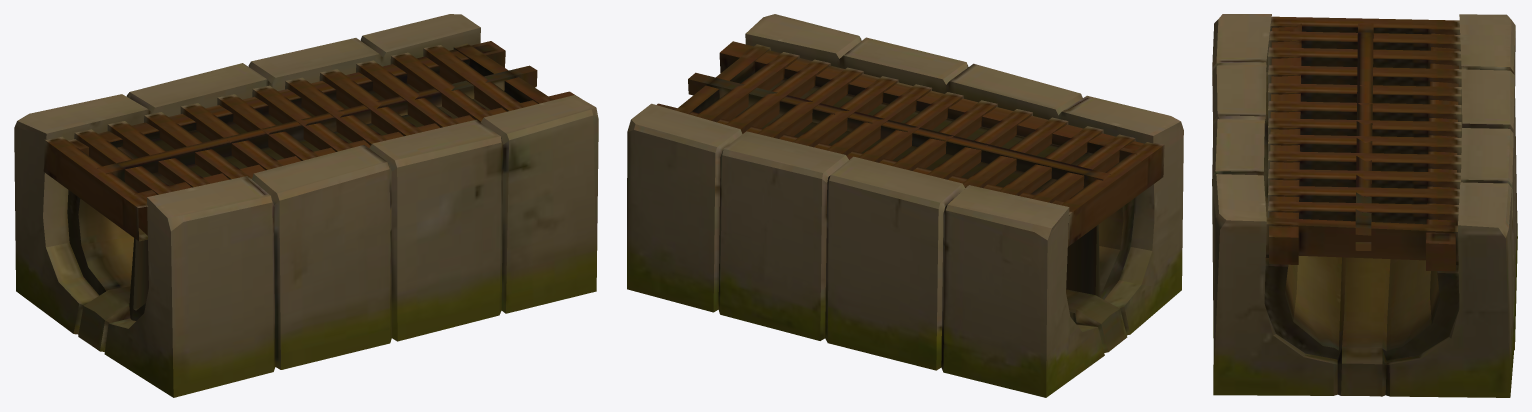
Rendered from sewer_drainage_channel.fbx.
3 views of the same model, side by side, from view 1: azimuth 30°, elevation 25°; view 2: azimuth 150°, elevation 25°; view 3: azimuth 270°, elevation 25° (orthographic). The views are drawn at different scales.
Visible parts, largest first — view 1: sewer_drainage_channel; view 2: sewer_drainage_channel; view 3: sewer_drainage_channel.
Boxes of the visible parts, x1=… form: sewer_drainage_channel: x1=14, y1=14, x2=598, y2=397; sewer_drainage_channel: x1=627, y1=14, x2=1183, y2=397; sewer_drainage_channel: x1=1212, y1=14, x2=1517, y2=397.
Size of the model in its own units: 133 by 52.55 by 78.47.
Materials: 1 (1 with a texture image).
